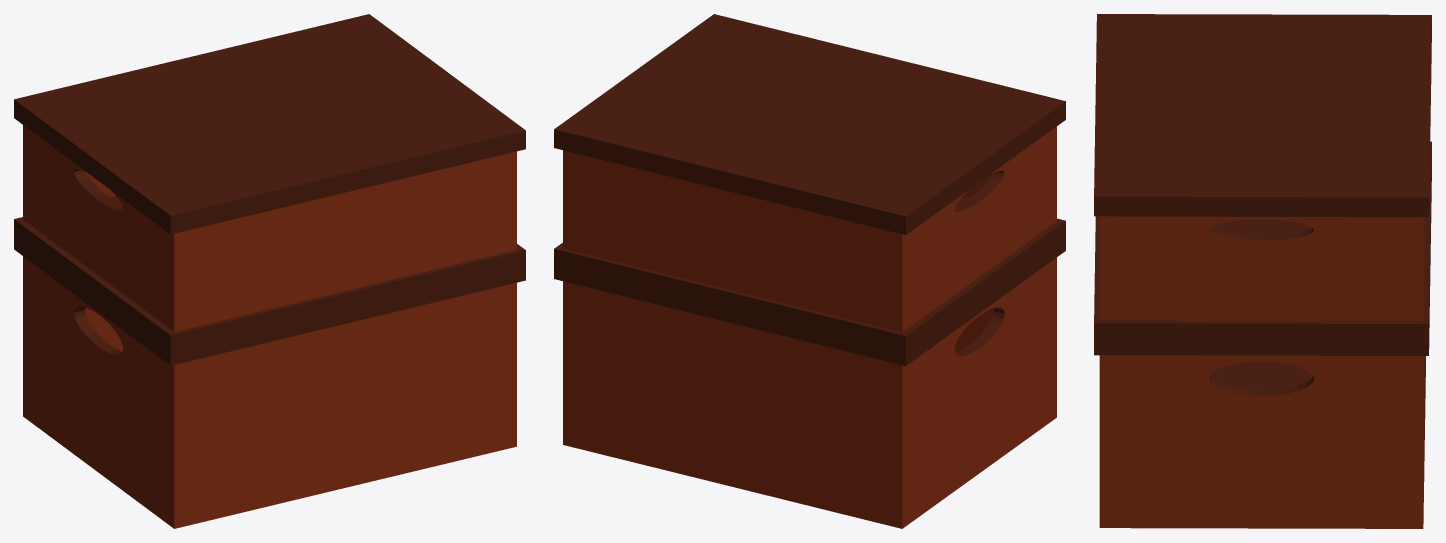
The model's file is Boxes.obj.
The picture shows the model from 3 angles, left to right: view 1: azimuth 30°, elevation 25°; view 2: azimuth 150°, elevation 25°; view 3: azimuth 270°, elevation 25°; orthographic projection. The views are drawn at different scales.
Visible parts, largest first — view 1: Caixa2; view 2: Caixa2; view 3: Caixa2.
Part boxes in pixels (x1,y1,x2,y2): Caixa2: [14, 14, 525, 528]; Caixa2: [554, 14, 1065, 528]; Caixa2: [1094, 14, 1431, 528].
Size of the model in its own units: 1.81 by 1.54 by 1.41.
